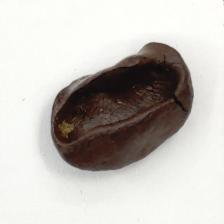NG: (86, 56, 140, 142), (143, 54, 173, 121), (53, 88, 84, 149)
